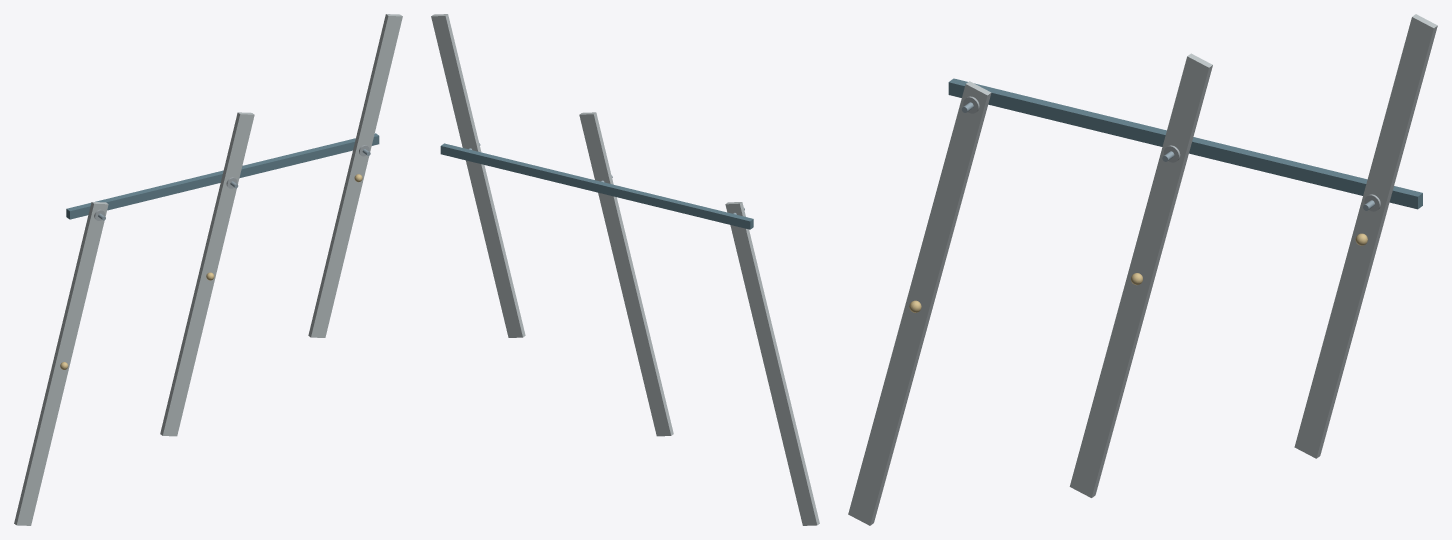
Rendered from rod-pendulum.glb.
The picture shows the model from 3 angles, left to right: view 1: azimuth 30°, elevation 25°; view 2: azimuth 150°, elevation 25°; view 3: azimuth 330°, elevation 25°; orthographic projection. The views are drawn at different scales.
Visible parts, largest first — view 1: Rod_Optimal, Rod_NearCentre, Rod_NearEnd, FixedSupport; view 2: Rod_Optimal, Rod_NearCentre, Rod_NearEnd, FixedSupport; view 3: Rod_NearEnd, Rod_NearCentre, Rod_Optimal, FixedSupport.
Boxes of the visible parts, x1,y1,x2,y2 form: Rod_Optimal: [160, 112, 254, 436]; Rod_NearCentre: [308, 14, 402, 337]; Rod_NearEnd: [14, 202, 108, 525]; FixedSupport: [66, 133, 379, 219]; Rod_Optimal: [579, 112, 673, 436]; Rod_NearCentre: [431, 14, 525, 337]; Rod_NearEnd: [725, 202, 819, 525]; FixedSupport: [440, 143, 753, 229]; Rod_NearEnd: [848, 81, 991, 525]; Rod_NearCentre: [1294, 14, 1437, 458]; Rod_Optimal: [1069, 53, 1212, 497]; FixedSupport: [948, 78, 1422, 209].
Bounding box in the file's own units: 0.7738 × 0.8095 × 0.053.
